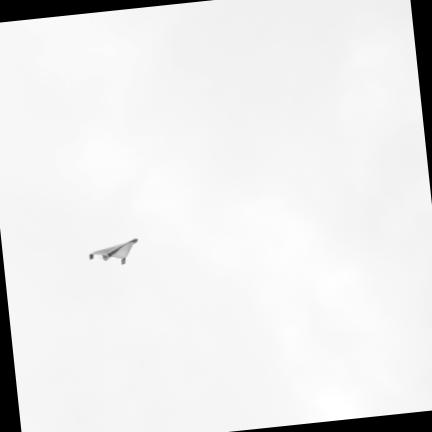Shahed: (90, 239, 137, 263)
